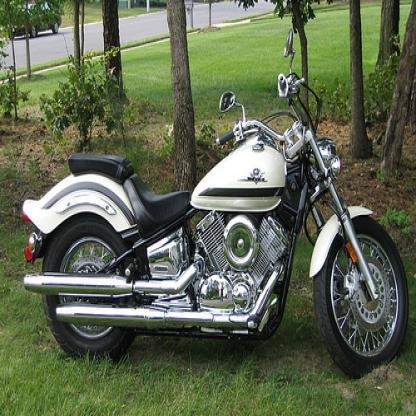motorbike: (21, 28, 410, 382)
